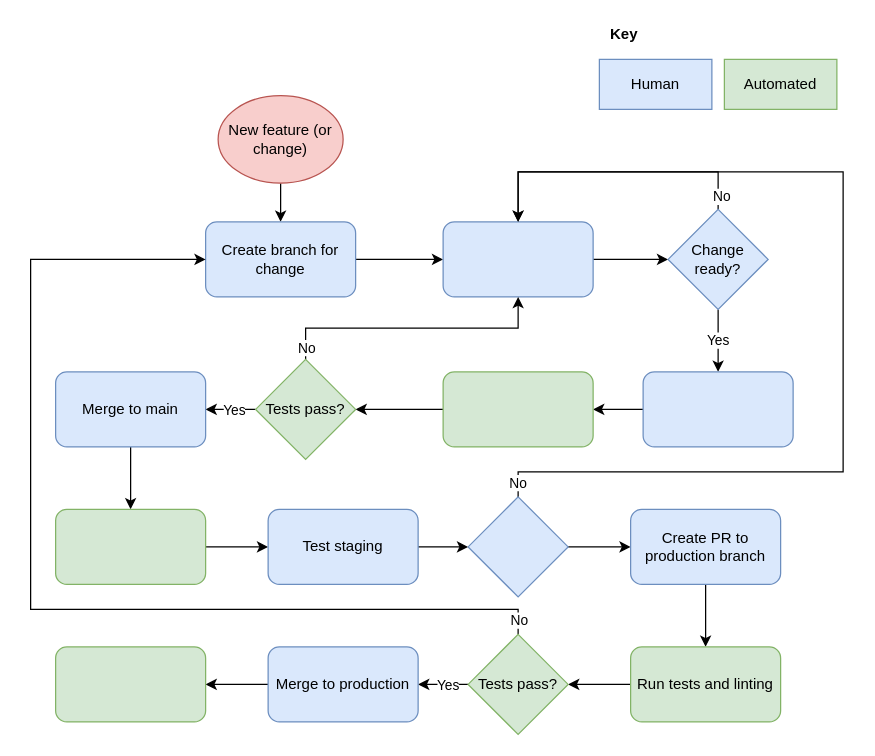
The diagram is 875 pixels wide and 756 high, and some of its shapes have lost their labels. The centre of each missing label's shape, as x and y in pixels:
"Add commits and push branch" goes at pixel 517 259.
"Approved?" goes at pixel 517 546.
"CircleCI runs tests and linting" goes at pixel 517 409.
"Create PR to main branch" goes at pixel 717 409.
"Deploy to production" goes at pixel 130 684.
"Deploy to staging" goes at pixel 130 546.
